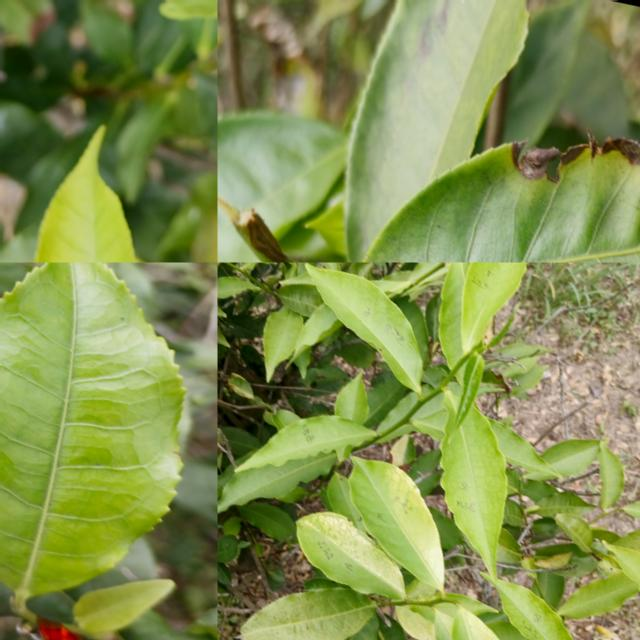Leaf: (0, 262, 184, 602), (344, 0, 528, 262), (360, 138, 640, 262), (217, 110, 346, 262), (305, 264, 421, 398), (32, 126, 136, 262), (348, 456, 443, 589), (502, 0, 587, 147), (440, 406, 506, 575), (27, 537, 154, 622), (296, 511, 404, 598), (234, 414, 373, 471), (240, 587, 375, 640), (217, 452, 336, 512), (481, 573, 572, 640), (460, 262, 526, 353), (72, 579, 174, 634), (488, 419, 559, 479), (557, 571, 637, 618), (437, 262, 469, 368), (262, 305, 302, 380), (450, 351, 483, 438), (293, 303, 342, 358), (363, 368, 405, 427), (325, 472, 366, 531), (540, 438, 605, 475), (0, 0, 54, 43), (237, 501, 296, 540), (603, 540, 640, 590), (334, 370, 368, 424), (597, 445, 624, 510), (534, 491, 595, 516), (409, 401, 447, 440), (555, 513, 592, 551), (511, 363, 545, 396), (159, 0, 217, 19), (217, 276, 258, 298), (495, 342, 548, 358), (610, 528, 640, 551), (217, 534, 237, 562)
